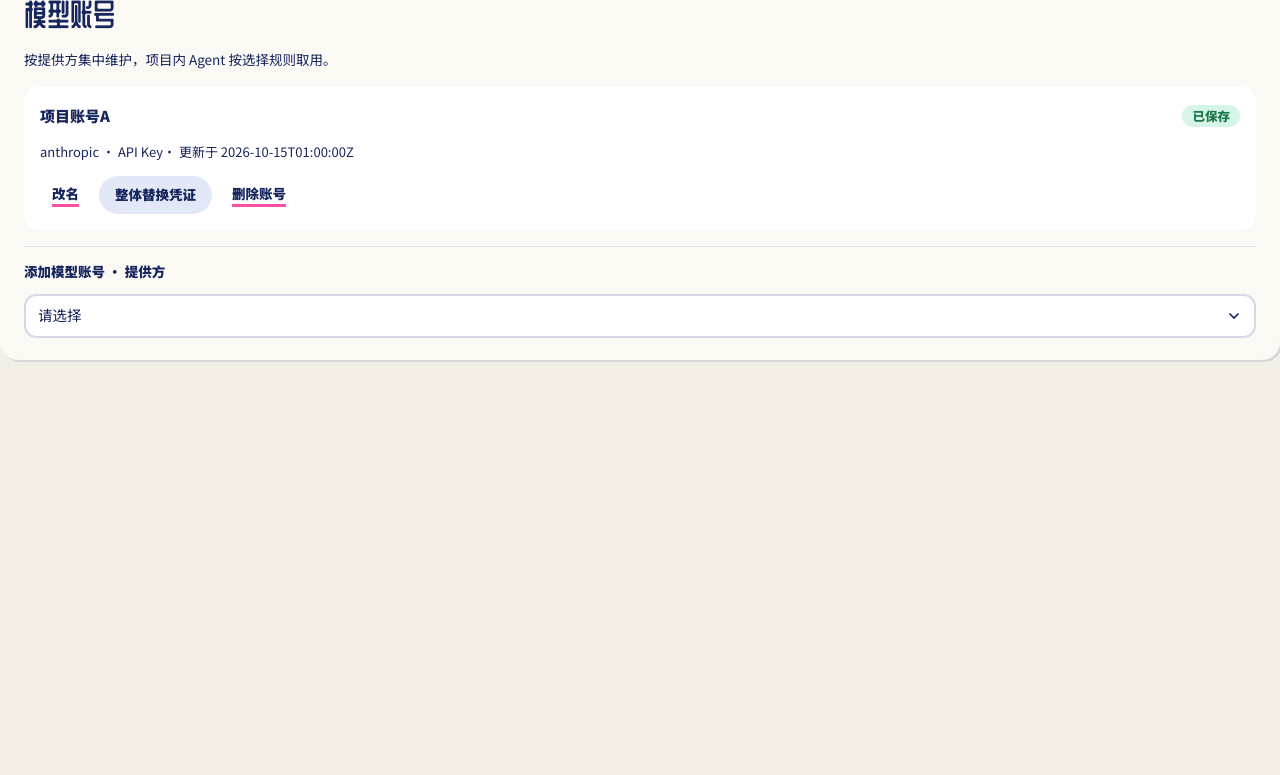
Test: 项目账号正式HTTP fixture › 远端删除正在编辑账号时不卸载秘密草稿，412后读tombstone不能采用或复活
The width and height of the screenshot is (1280, 775).
Click the button "整体替换凭证" at (156, 195), box [99,176,212,214]
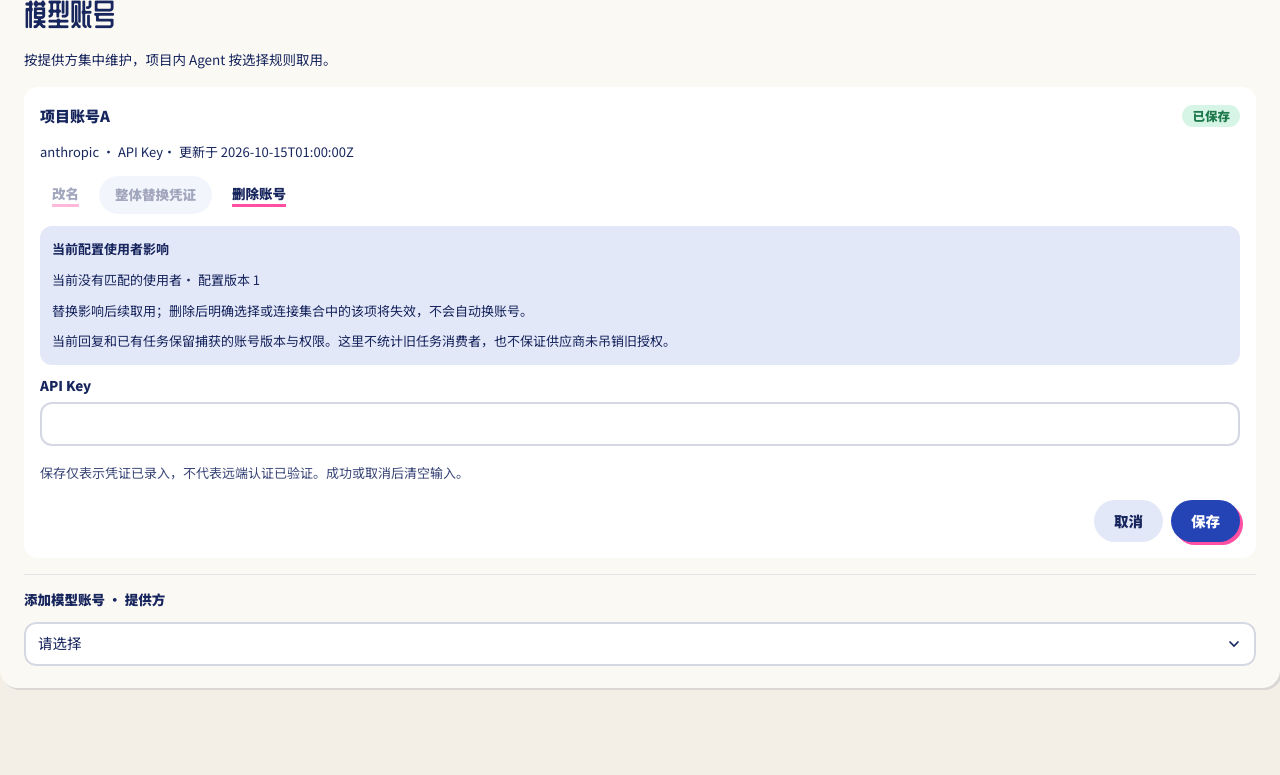
Type "keep-local-secret" into the password field labelled "API Key" at (640, 424), box [40,402,1240,446]
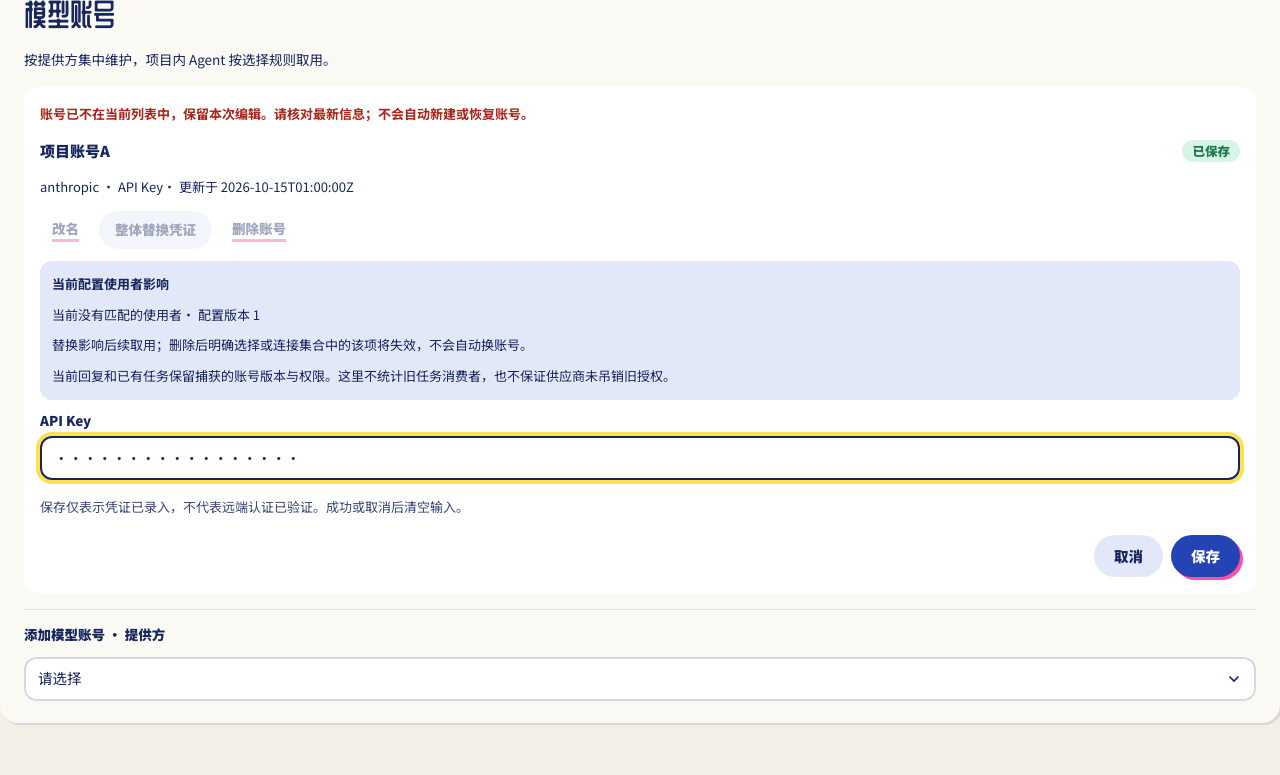
Check: the text "账号已不在当前列表中，保留本次编辑。请核对最新信息；不会自动新建或恢复账号。" is shown, box [40,106,534,122]
Click the button "保存" at (1206, 556), box [1171,535,1240,577]
(page scrolled)
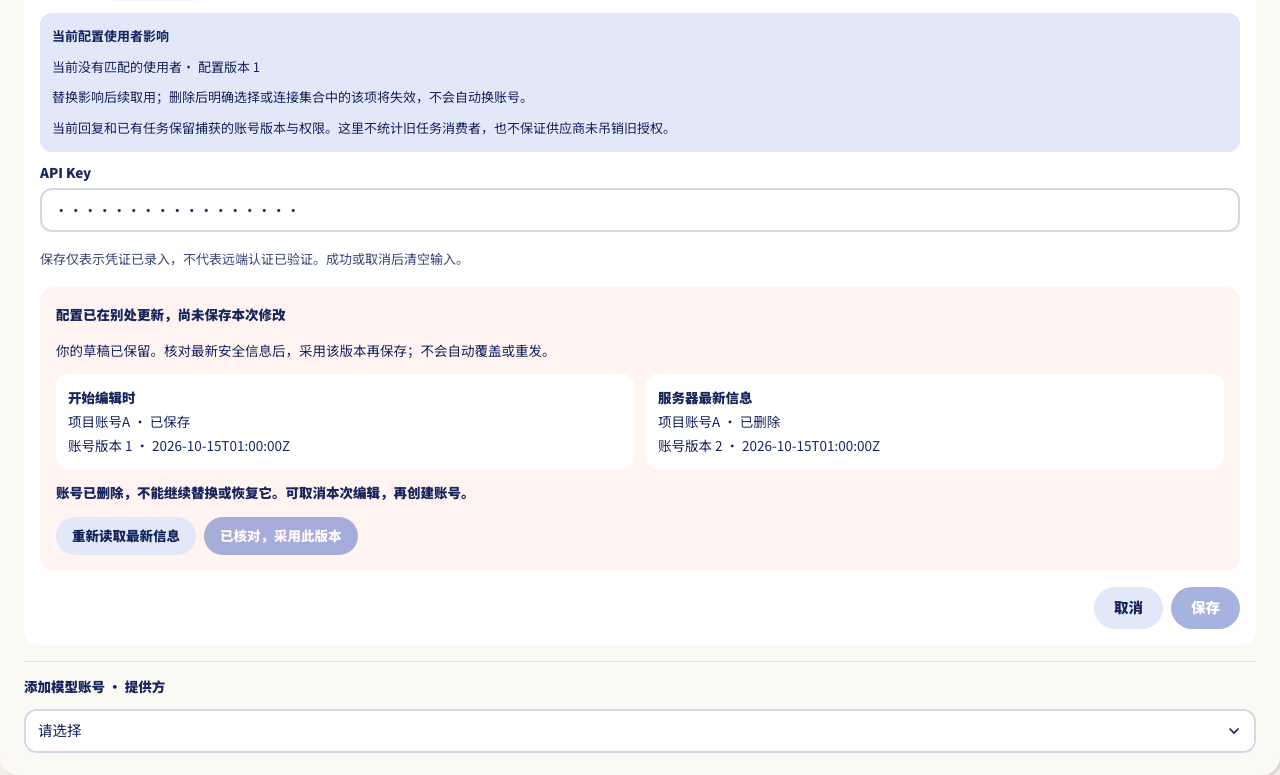
Check: the text "账号已删除，不能继续替换或恢复它。可取消本次编辑，再创建账号。" is shown, box [56,484,474,501]
Check: the button "已核对，采用此版本" is disabled, box [204,517,358,555]
